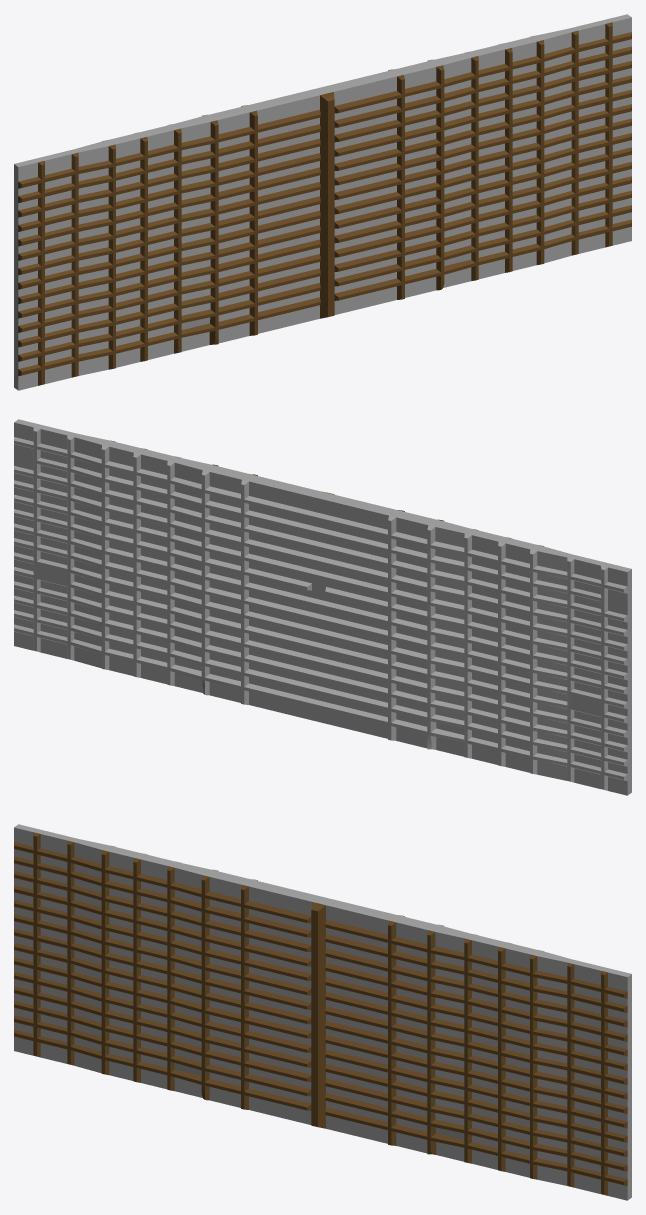
The model's file is wall_3.fbx.
3 views of the same model, one above another, from view 1: azimuth 30°, elevation 25°; view 2: azimuth 150°, elevation 25°; view 3: azimuth 330°, elevation 25° (orthographic).
Parts seen in each view (by area): view 1: pCube18; view 2: pCube18; view 3: pCube18.
Part boxes in pixels (x1,y1,x2,y2): pCube18: (14, 14, 631, 390); pCube18: (14, 419, 631, 795); pCube18: (14, 824, 631, 1200).
Bounding box in the file's own units: 133 × 46.18 × 5.64.
